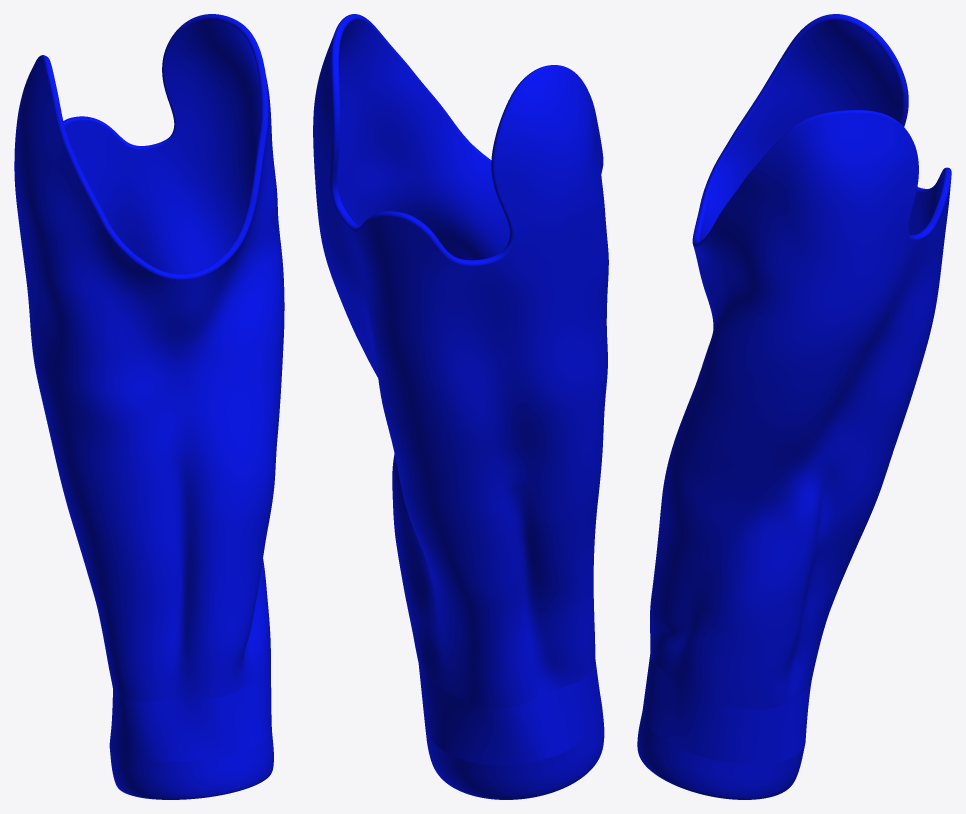
3 renders of one model, left to right at view 1: azimuth 30°, elevation 25°; view 2: azimuth 150°, elevation 25°; view 3: azimuth 270°, elevation 25°, orthographic. The views are drawn at different scales.
Visible parts, largest first — view 1: OS V3 Pom; view 2: OS V3 Pom; view 3: OS V3 Pom.
Part boxes in pixels (left/top/right/bottom): OS V3 Pom: left=14, top=14, right=284, bottom=799; OS V3 Pom: left=313, top=14, right=608, bottom=799; OS V3 Pom: left=637, top=14, right=951, bottom=799.
Size of the model in its own units: 93.66 by 265 by 105.
